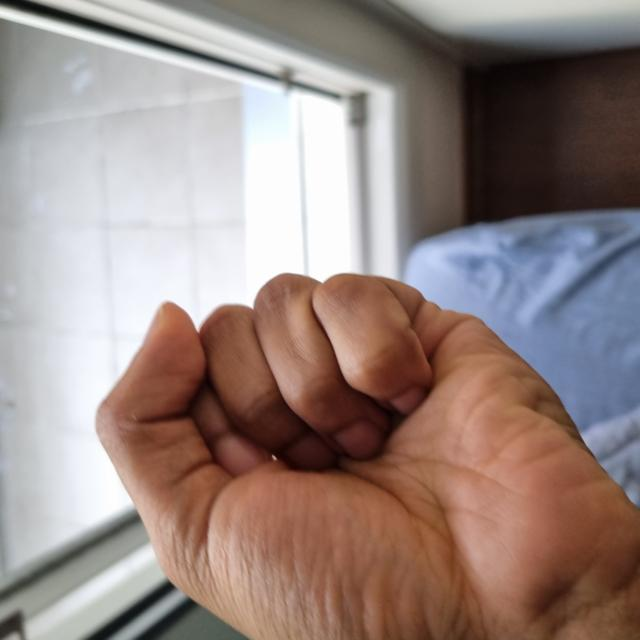Rock: (0, 96, 370, 634)
